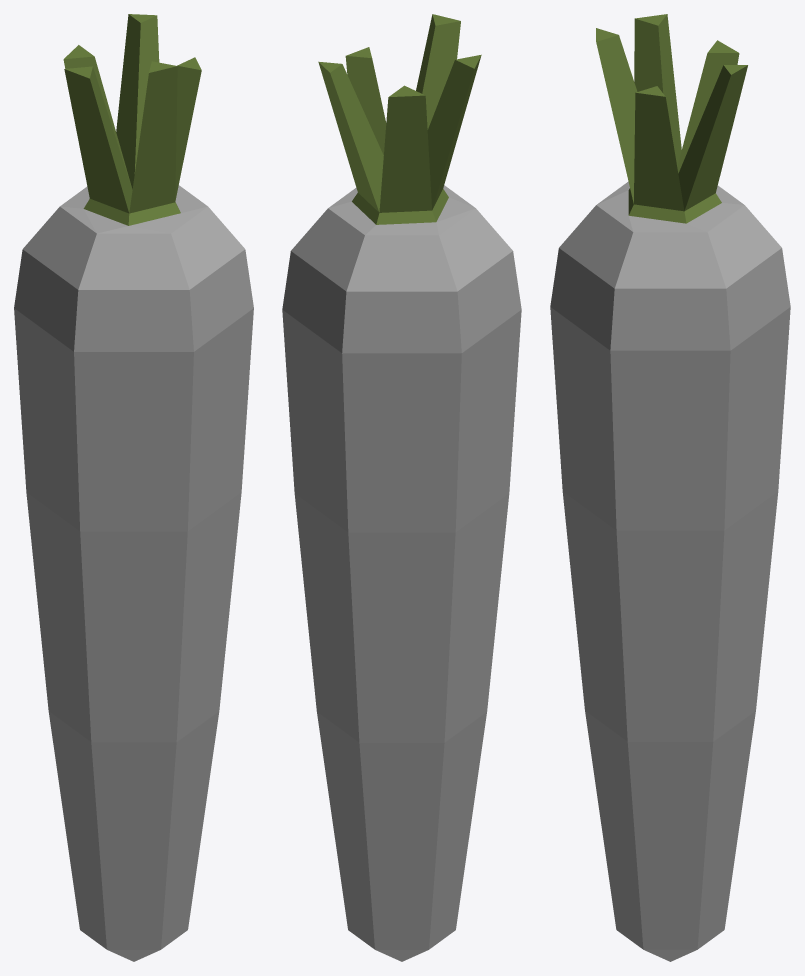
Rendered from SM_Envr_Nature_Farm_Vegetable_Carrot_White.fbx.
The picture shows the model from 3 angles, left to right: view 1: azimuth 30°, elevation 25°; view 2: azimuth 150°, elevation 25°; view 3: azimuth 270°, elevation 25°; orthographic projection.
Visible parts, largest first — view 1: SM_Envr_Nature_Farm_Vegetable_Carrot_White; view 2: SM_Envr_Nature_Farm_Vegetable_Carrot_White; view 3: SM_Envr_Nature_Farm_Vegetable_Carrot_White.
Part boxes in pixels (bbox=[...]): SM_Envr_Nature_Farm_Vegetable_Carrot_White: bbox=[14, 14, 253, 961]; SM_Envr_Nature_Farm_Vegetable_Carrot_White: bbox=[282, 14, 521, 961]; SM_Envr_Nature_Farm_Vegetable_Carrot_White: bbox=[550, 14, 790, 961].
Size of the model in its own units: 4.8 by 23.48 by 5.54.
